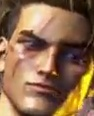kevin: (3, 4, 92, 112)
